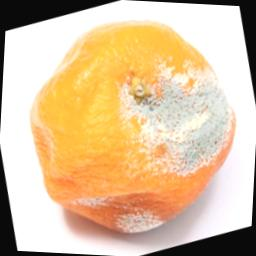Orange Rotten: (14, 3, 256, 256)
